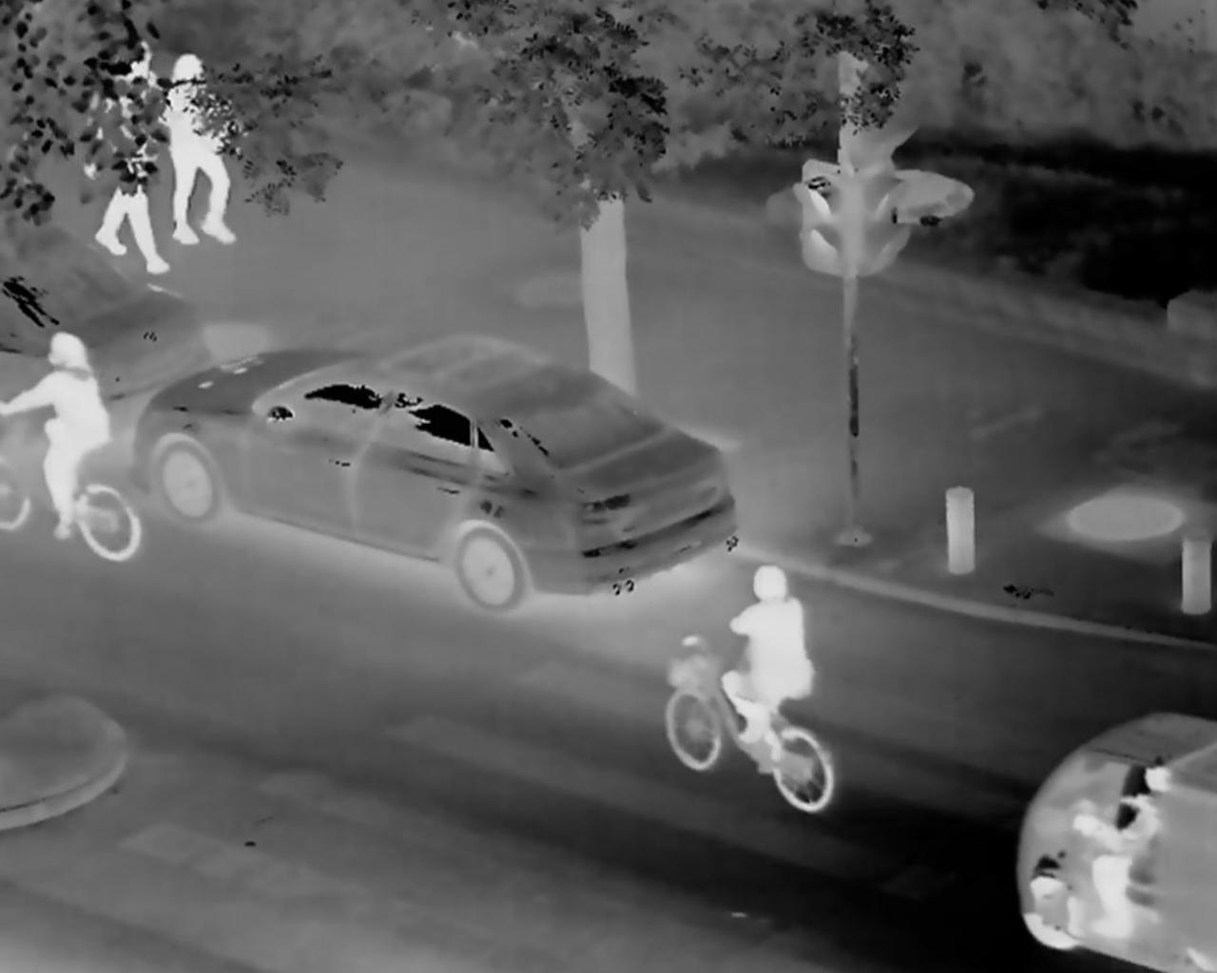person: (720, 557, 815, 755), (164, 52, 247, 247)
